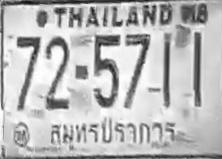1: (192, 31, 202, 107), (163, 33, 171, 106)
2: (45, 36, 70, 110)
5: (93, 34, 120, 107)
7: (124, 33, 150, 107), (16, 36, 41, 108)
SPK: (43, 117, 180, 147)
